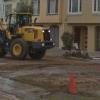Tractor: (6, 4, 60, 63)
